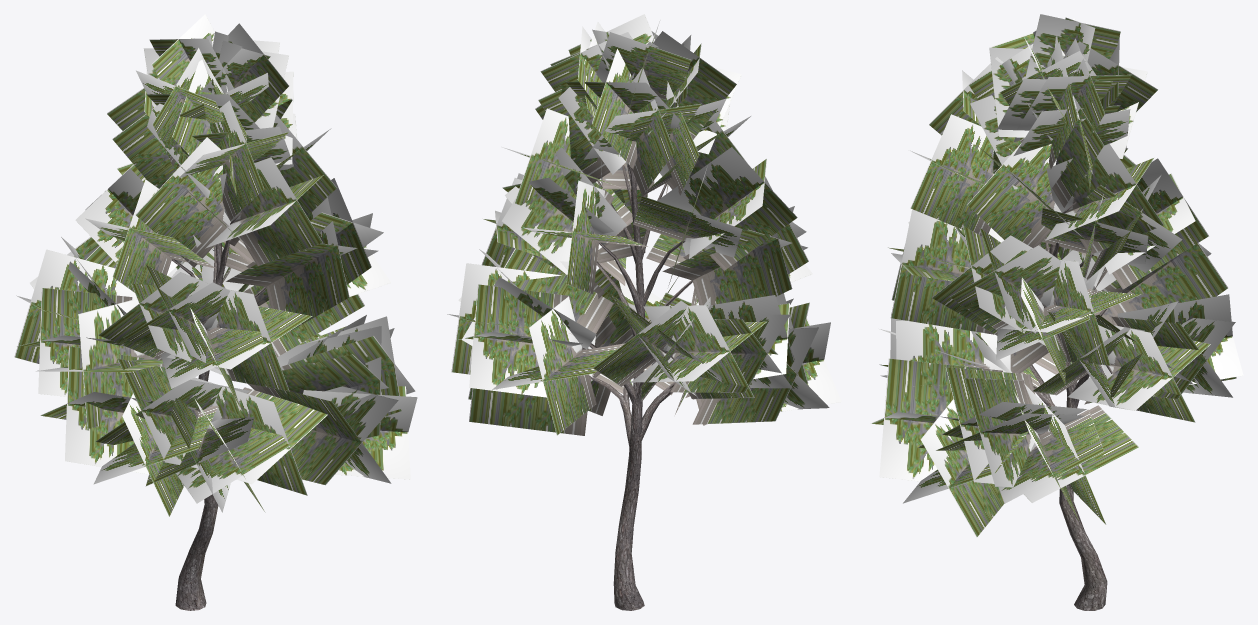
File: tree_birch.glb
3 renders of one model, left to right at view 1: azimuth 30°, elevation 25°; view 2: azimuth 150°, elevation 25°; view 3: azimuth 270°, elevation 25°, orthographic. The views are drawn at different scales.
Parts seen in each view (by area): view 1: Mobile_Tree_2_Tree_Leaf_0, Mobile_Tree_2_Tree_Trunk_0; view 2: Mobile_Tree_2_Tree_Leaf_0, Mobile_Tree_2_Tree_Trunk_0; view 3: Mobile_Tree_2_Tree_Leaf_0, Mobile_Tree_2_Tree_Trunk_0.
Part boxes in pixels (x1,y1,x2,y2): Mobile_Tree_2_Tree_Leaf_0: (14,14,417,516); Mobile_Tree_2_Tree_Trunk_0: (145,213,266,610); Mobile_Tree_2_Tree_Leaf_0: (447,14,841,435); Mobile_Tree_2_Tree_Trunk_0: (582,164,692,610); Mobile_Tree_2_Tree_Leaf_0: (871,14,1243,537); Mobile_Tree_2_Tree_Trunk_0: (1029,202,1112,610).
Size of the model in its own units: 12.46 by 20.25 by 11.67.
Materials: 2 (2 with a texture image).
